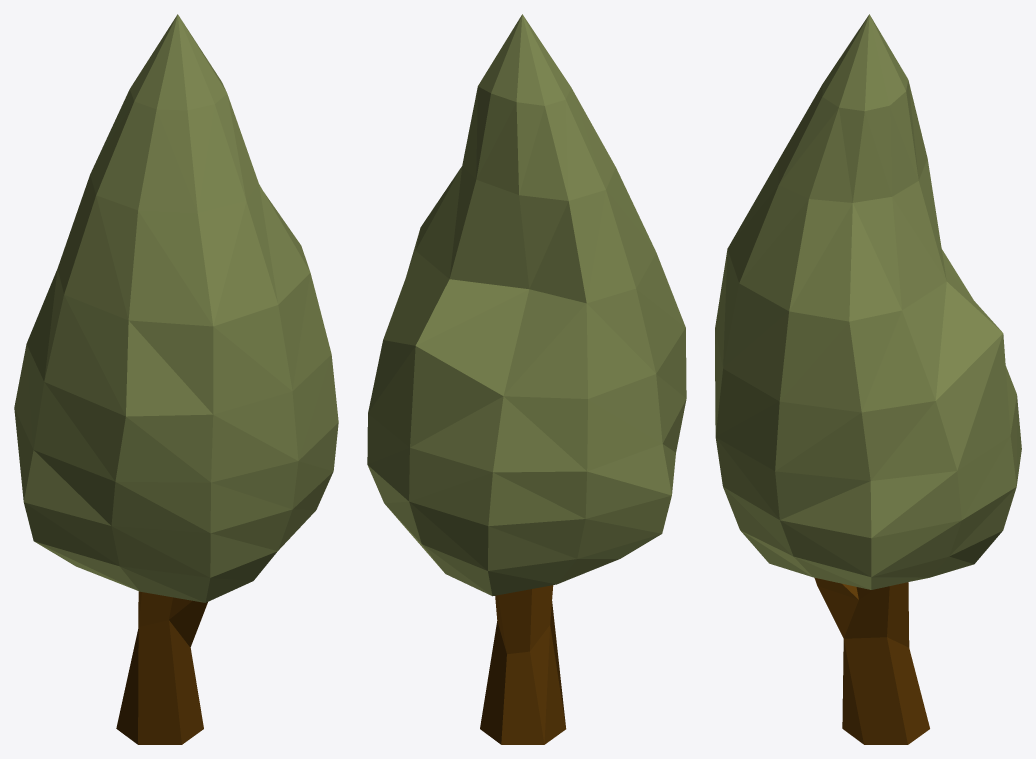
The model's file is tree5.fbx.
The picture shows the model from 3 angles, left to right: view 1: azimuth 30°, elevation 25°; view 2: azimuth 150°, elevation 25°; view 3: azimuth 270°, elevation 25°; orthographic projection.
Visible parts, largest first — view 1: polySurface219; view 2: polySurface219; view 3: polySurface219.
Boxes of the visible parts, bbox=[...] form: polySurface219: bbox=[14, 14, 338, 744]; polySurface219: bbox=[367, 14, 686, 744]; polySurface219: bbox=[715, 14, 1021, 744].
Size of the model in its own units: 0.9036 by 2.06 by 0.7967.
